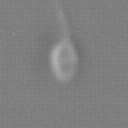normal: (52, 1, 82, 39)
